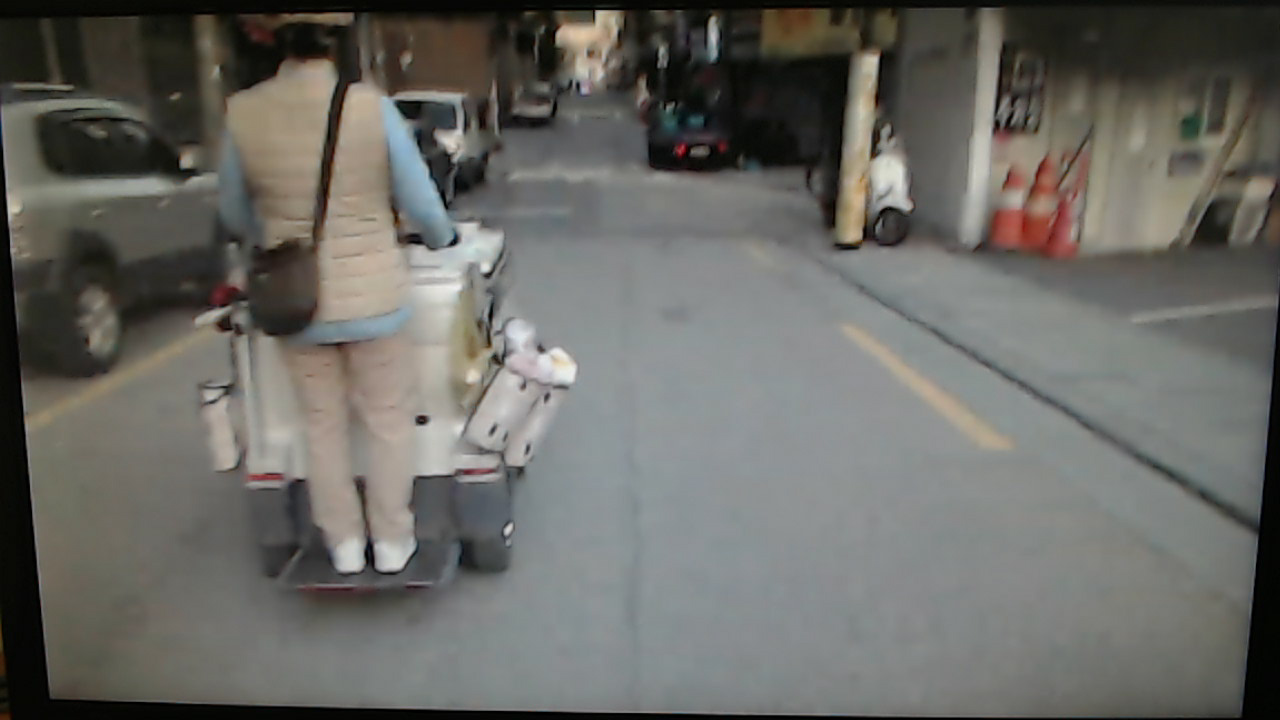Yakurut: (197, 15, 477, 609)
